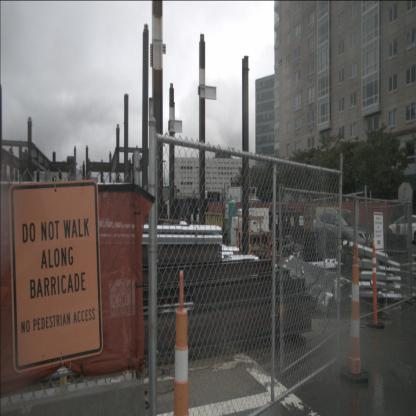movable_object-trafficcone: (339, 244, 369, 382), (170, 270, 194, 415), (369, 238, 385, 328)
vehicle-car: (311, 208, 374, 257), (386, 214, 416, 245)
vehicle-truck: (228, 186, 262, 218)
